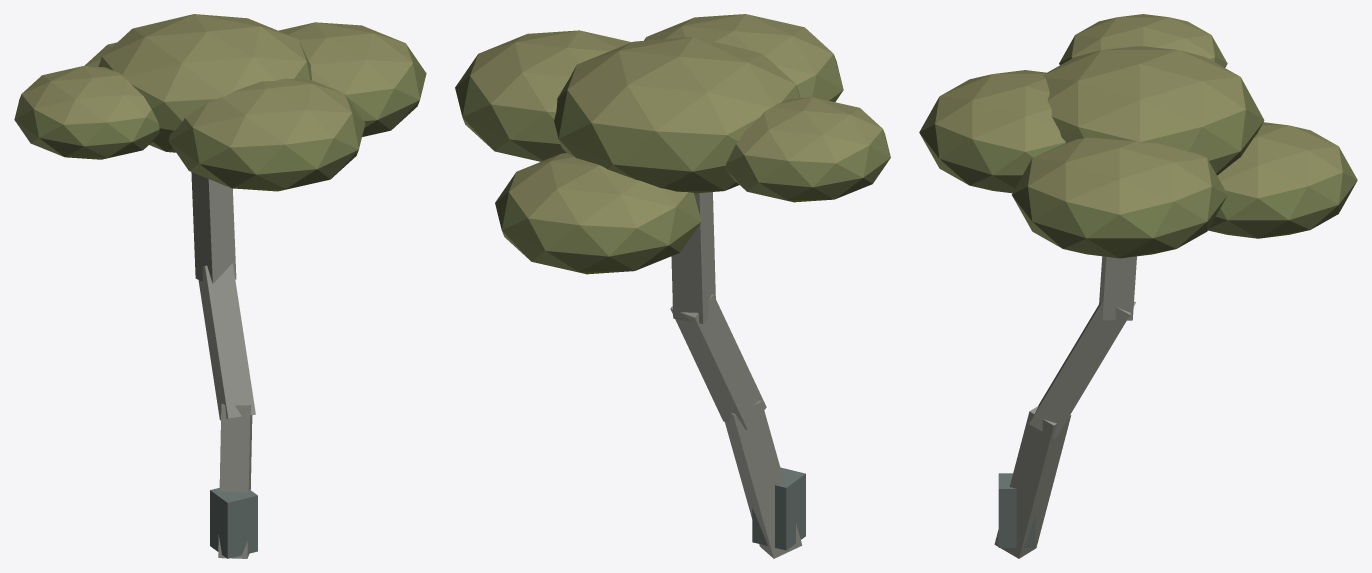
Rendered from SM_Pino_v2_LOD0.fbx.
The picture shows the model from 3 angles, left to right: view 1: azimuth 30°, elevation 25°; view 2: azimuth 150°, elevation 25°; view 3: azimuth 270°, elevation 25°; orthographic projection. The views are drawn at different scales.
Parts seen in each view (by area): view 1: SM_pino_v2_LOD0; view 2: SM_pino_v2_LOD0; view 3: SM_pino_v2_LOD0.
Part boxes in pixels (x1=…): SM_pino_v2_LOD0: x1=14, y1=14, x2=426, y2=558; SM_pino_v2_LOD0: x1=455, y1=14, x2=890, y2=558; SM_pino_v2_LOD0: x1=919, y1=14, x2=1357, y2=558.
Size of the model in its own units: 6.97 by 8.51 by 6.73.
